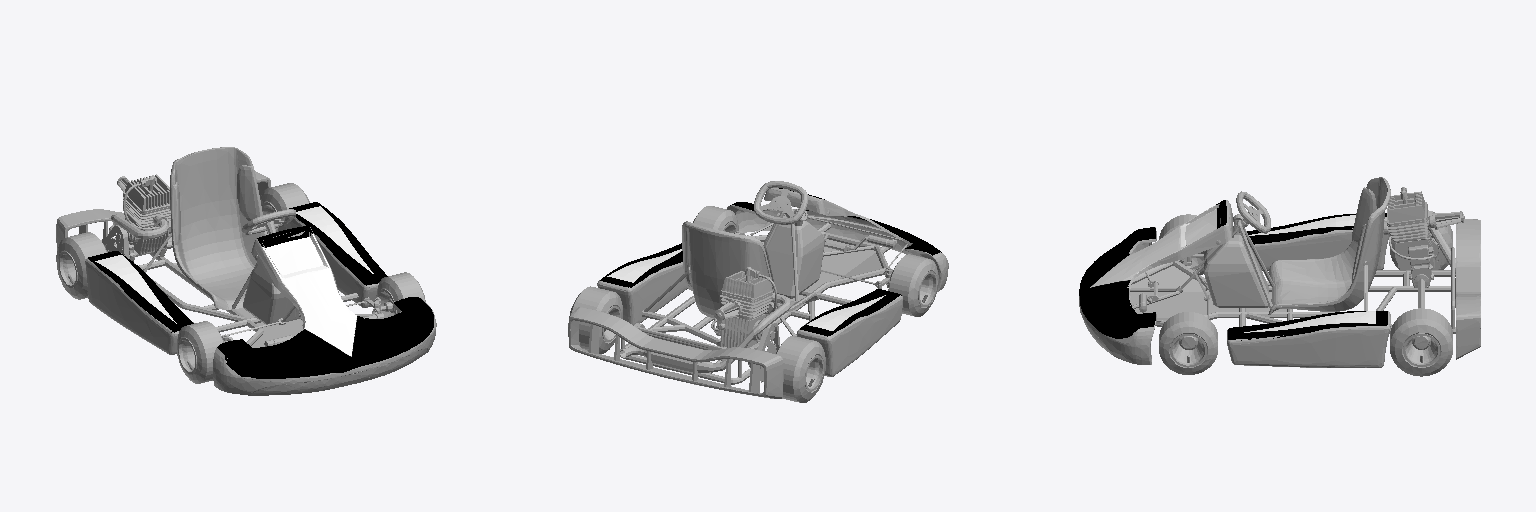
3 renders of one model, left to right at view 1: azimuth 30°, elevation 25°; view 2: azimuth 150°, elevation 25°; view 3: azimuth 270°, elevation 25°, orthographic.
Visible parts, largest first — view 1: Object.2, Object.1, Object.5, Object.6, Object.9, Object.11, Object.3; view 2: Object.1, Object.2, Object.5, Object.6, Object.9, Object.3, Object.11; view 3: Object.2, Object.1, Object.6, Object.5, Object.11, Object.7, Object.12, Object.3.
Boxes of the visible parts, box(x1,y1,x2,y2) form: Object.2: box(56, 171, 436, 395); Object.1: box(79, 147, 392, 347); Object.5: box(111, 174, 170, 254); Object.6: box(56, 183, 309, 299); Object.9: box(177, 321, 223, 383); Object.11: box(376, 272, 425, 313); Object.3: box(242, 209, 295, 234); Object.1: box(588, 199, 907, 392); Object.2: box(568, 188, 948, 398); Object.5: box(620, 271, 790, 372); Object.6: box(568, 286, 825, 402); Object.9: box(888, 254, 938, 316); Object.3: box(754, 181, 807, 224); Object.11: box(693, 206, 738, 230); Object.2: box(1079, 200, 1480, 367); Object.1: box(1130, 177, 1464, 333); Object.6: box(1390, 210, 1452, 376); Object.5: box(1384, 191, 1455, 307); Object.11: box(1159, 312, 1217, 374); Object.7: box(1403, 333, 1439, 366); Object.12: box(1170, 334, 1206, 367); Object.3: box(1236, 191, 1270, 233).
Size of the model in its own units: 1652 by 887 by 2448.
2 materials, 1 textured.